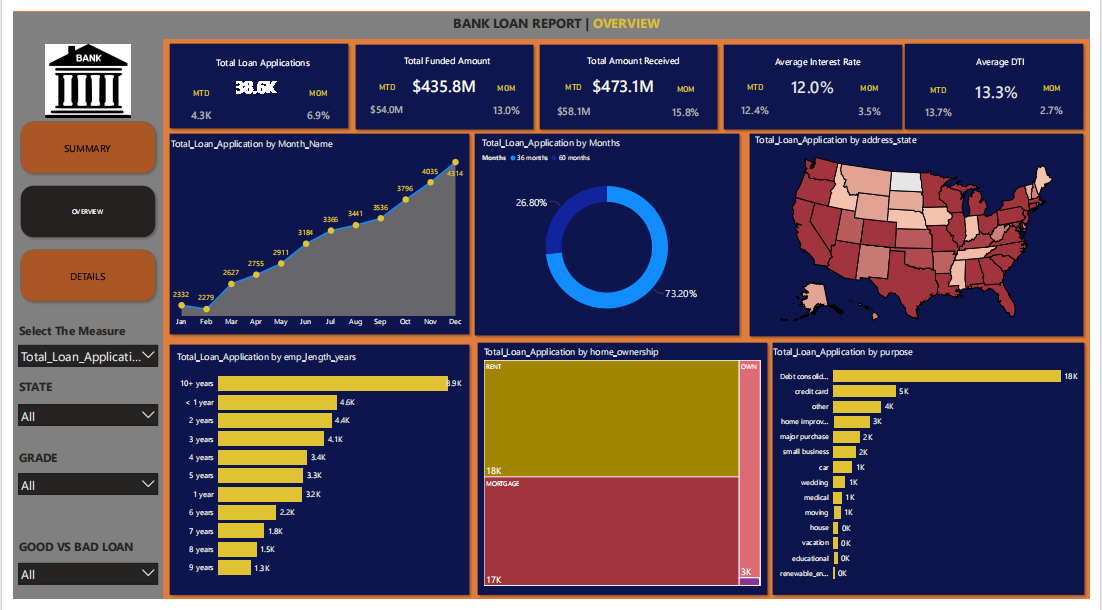

The page's visual inventory and layout, read from the dashboard file:
{"tool":"powerbi","page":{"name":"OVERVIEW","canvas":[2200,1200],"ordinal":1},"visuals":[{"type":"group","id":"g1","title":"Group 1","box":[940.9,667.6,609.1,532.9],"z":0},{"type":"group","id":"g2","title":"Group 1","box":[310.4,671.5,630.5,529],"z":1000},{"type":"shape","box":[0,28.6,304.8,1171.4],"z":2000},{"type":"group","id":"g3","title":"Group 1","box":[1497.2,242.1,698.8,431.4],"z":2000,"group":"g15"},{"type":"shape","box":[1497.2,242.1,698.8,431.4],"z":2500,"group":"g3"},{"type":"shape","box":[0,0,2200,55.2],"z":3000},{"type":"shape","box":[310.4,242.1,630.5,425.6],"z":3000,"group":"g11"},{"type":"group","id":"g4","title":"Group 1","box":[935,242.1,558.3,429.5],"z":3000,"group":"g13"},{"type":"shape","box":[935,242.1,558.3,429.5],"z":3000,"group":"g4"},{"type":"shape","box":[940.9,667.6,609.1,532.9],"z":3000,"group":"g1"},{"type":"textbox","box":[895.2,0,455.2,55.2],"z":4000},{"type":"shape","box":[1814.7,57.9,380,189.7],"z":4000,"group":"g9"},{"type":"shape","box":[310.8,58.4,381,188.6],"z":4000,"group":"g6"},{"type":"shape","box":[691,58.6,380.7,189],"z":4000,"group":"g7"},{"type":"shape","box":[1067.8,58.6,380,189],"z":4000,"group":"g10"},{"type":"shape","box":[1444.5,58.6,380,189],"z":4000,"group":"g8"},{"type":"shape","box":[1544.1,667.6,652.5,532.6],"z":4000,"group":"g5"},{"type":"shape","box":[310.4,671.5,631,528.7],"z":4000,"group":"g2"},{"type":"cardVisual","fields":{"Data":["KPI'S.Total Funded Loan Amount"]},"box":[773.3,108.7,215.6,79.9],"z":5000,"group":"g7"},{"type":"cardVisual","fields":{"Data":["KPI'S.Total Amount Receieved"]},"box":[1139.5,108.7,215.6,81.9],"z":5000,"group":"g10"},{"type":"cardVisual","fields":{"Data":["KPI'S.Average Intrest Rate"]},"box":[1525.6,110.7,215.6,79.9],"z":5000,"group":"g8"},{"type":"cardVisual","fields":{"Data":["KPI'S.Total_Loan_Application"]},"box":[387.5,112.8,215.6,79.9],"z":5000,"group":"g6"},{"type":"cardVisual","fields":{"Data":["KPI'S.Average DTI"]},"box":[1902.3,122.2,215.4,79],"z":5000,"group":"g9"},{"type":"slicer","fields":{"Values":["financial_loan.Good vs Bad Loan"]},"box":[0,1118.1,304.8,81.9],"z":5000},{"type":"textbox","box":[782.4,80.8,210.5,39.3],"z":6000,"group":"g7"},{"type":"textbox","box":[1161.4,81,214.3,39.7],"z":6000,"group":"g10"},{"type":"textbox","box":[1538.1,82.2,213.3,41.8],"z":6000,"group":"g8"},{"type":"textbox","box":[1912,83.3,213.7,41.8],"z":6000,"group":"g9"},{"type":"textbox","box":[403.5,86.5,212.9,34.7],"z":6000,"group":"g6"},{"type":"textbox","box":[5.7,1072.4,253.3,45.7],"z":6000},{"type":"cardVisual","title":"MTD","fields":{"Data":["KPI'S.MTD Loan Amount"]},"box":[697.5,144.7,133.8,87.8],"z":7000,"group":"g7"},{"type":"cardVisual","title":"MTD","fields":{"Data":["KPI'S.MTD"]},"box":[1077.6,144.7,135.8,91.8],"z":7000,"group":"g10"},{"type":"cardVisual","title":"MTD","fields":{"Data":["KPI'S.MTD Average interest Rate"]},"box":[1457.7,144.7,117.8,87.8],"z":7000,"group":"g8"},{"type":"cardVisual","title":"MTD","fields":{"Data":["KPI'S.MTD DTI"]},"box":[1831.3,149.9,119,89],"z":7000,"group":"g9"},{"type":"cardVisual","title":"MTD","fields":{"Data":["KPI'S.Month_to_date_Loanapplication"]},"box":[323.6,156.7,119.8,85.8],"z":7000,"group":"g6"},{"type":"textbox","box":[5.7,889.5,104.8,45.7],"z":7000},{"type":"cardVisual","title":"MOM","fields":{"Data":["KPI'S.MOM Loan Amount"]},"box":[949,145.3,119,89],"z":8000,"group":"g7"},{"type":"cardVisual","title":"MOM","fields":{"Data":["KPI'S.MOM DTI"]},"box":[2063.3,145.9,119,89],"z":8000,"group":"g9"},{"type":"cardVisual","title":"MOM","fields":{"Data":["KPI'S.MOM Average Interst Rate"]},"box":[1691.3,146.7,117.8,89.8],"z":8000,"group":"g8"},{"type":"cardVisual","title":"MOM","fields":{"Data":["KPI'S.MOM Amount Received"]},"box":[1313.2,148.6,125,89],"z":8000,"group":"g10"},{"type":"cardVisual","title":"MOM","fields":{"Data":["KPI'S.MOM_Loan_Application"]},"box":[565.2,156.7,117.8,85.8],"z":8000,"group":"g6"},{"type":"textbox","box":[5.7,744.8,116.2,49.5],"z":8000},{"type":"slicer","fields":{"Values":["financial_loan.grade"]},"box":[0,935.2,304.8,80],"z":9000},{"type":"slicer","fields":{"Values":["financial_loan.address_state"]},"box":[0,794.3,304.8,81.9],"z":10000},{"type":"clusteredBarChart","fields":{"Y":["KPI'S.Total_Loan_Application"],"Category":["financial_loan.emp_length_years"]},"box":[329.9,693,591.5,480.2],"z":11000},{"type":"treemap","fields":{"Values":["KPI'S.Total_Loan_Application"],"Group":["financial_loan.home_ownership"]},"box":[956.5,683.2,575.9,495.8],"z":12000},{"type":"slicer","fields":{"Values":["Select the Measure.Select the Measure"]},"box":[0,672.4,304.8,74.3],"z":13000},{"type":"textbox","box":[5.7,630.5,253.3,49.5],"z":14000},{"type":"group","id":"g5","title":"Group 1","box":[1544.1,667.6,652,532.9],"z":15000},{"type":"shapeMap","fields":{"Value":["KPI'S.Total_Loan_Application"],"Category":["financial_loan.address_state"]},"box":[1512.9,249.5,669.6,405.7],"z":16000,"group":"g15"},{"type":"clusteredBarChart","fields":{"Y":["KPI'S.Total_Loan_Application"],"Category":["financial_loan.purpose"]},"box":[1550,683.2,632.5,495.8],"z":16000},{"type":"group","id":"g6","title":"Group 1","box":[310.8,58.4,381,188.6],"z":17000},{"type":"donutChart","fields":{"Y":["KPI'S.Total_Loan_Application"],"Category":["financial_loan.term_in_months"]},"box":[954.3,253.9,517.3,401.9],"z":17000,"group":"g13"},{"type":"group","id":"g7","title":"Group 1","box":[691,58.6,380.7,187.4],"z":18000},{"type":"group","id":"g8","title":"Group 1","box":[1444.5,58.6,380.7,187.4],"z":19000},{"type":"group","id":"g9","title":"Group 1","box":[1814.7,57.9,380,189.7],"z":20000},{"type":"group","id":"g10","title":"Group 1","box":[1067.8,58.6,380.7,187.4],"z":21000},{"type":"group","id":"g11","title":"Group 1","box":[310.4,242.1,630.5,425.6],"z":21000,"group":"g12"},{"type":"group","id":"g12","title":"Group 2","box":[310.4,242.1,630.5,425.6],"z":22000},{"type":"group","id":"g13","title":"Group 3","box":[935,242.1,558.3,429.5],"z":23000},{"type":"areaChart","fields":{"Y":["KPI'S.Total_Loan_Application"],"Category":["Date_Table.Month_Name"]},"box":[318.2,255.8,611,398.2],"z":23000,"group":"g12"},{"type":"group","id":"g14","title":"Group 4","box":[1497.2,242.1,698.8,431.4],"z":24000},{"type":"pageNavigator","box":[5.7,217.1,291.4,382.9],"z":25000},{"type":"image","box":[0,66.7,304.8,150.5],"z":25001},{"type":"group","id":"g15","title":"Group 5","box":[1497.2,242.1,698.8,431.4],"z":25010,"group":"g14"}]}

Visuals, with their boxes in screenshot pixels (x1, y1, x2, y2), scaled from the page's 2200x1200 canvas onto the 1102x610 screenshot:
"Group 1" group: bbox=(471, 339, 776, 609)
"Group 1" group: bbox=(155, 341, 471, 609)
shape: bbox=(0, 15, 153, 609)
"Group 1" group: bbox=(750, 123, 1100, 342)
shape: bbox=(750, 123, 1100, 342)
shape: bbox=(0, 0, 1101, 28)
shape: bbox=(155, 123, 471, 339)
"Group 1" group: bbox=(468, 123, 748, 341)
shape: bbox=(468, 123, 748, 341)
shape: bbox=(471, 339, 776, 609)
textbox: bbox=(448, 0, 676, 28)
shape: bbox=(909, 29, 1099, 126)
shape: bbox=(156, 30, 347, 126)
shape: bbox=(346, 30, 537, 126)
shape: bbox=(535, 30, 725, 126)
shape: bbox=(724, 30, 914, 126)
shape: bbox=(773, 339, 1100, 609)
shape: bbox=(155, 341, 472, 609)
cardVisual - KPI'S.Total Funded Loan Amount: bbox=(387, 55, 495, 96)
cardVisual - KPI'S.Total Amount Receieved: bbox=(571, 55, 679, 97)
cardVisual - KPI'S.Average Intrest Rate: bbox=(764, 56, 872, 97)
cardVisual - KPI'S.Total_Loan_Application: bbox=(194, 57, 302, 98)
cardVisual - KPI'S.Average DTI: bbox=(953, 62, 1061, 102)
slicer - financial_loan.Good vs Bad Loan: bbox=(0, 568, 153, 609)
textbox: bbox=(392, 41, 497, 61)
textbox: bbox=(582, 41, 689, 61)
textbox: bbox=(770, 42, 877, 63)
textbox: bbox=(958, 42, 1065, 64)
textbox: bbox=(202, 44, 309, 62)
textbox: bbox=(3, 545, 130, 568)
"MTD" cardVisual: bbox=(349, 74, 416, 118)
"MTD" cardVisual: bbox=(540, 74, 608, 120)
"MTD" cardVisual: bbox=(730, 74, 789, 118)
"MTD" cardVisual: bbox=(917, 76, 977, 121)
"MTD" cardVisual: bbox=(162, 80, 222, 123)
textbox: bbox=(3, 452, 55, 475)
"MOM" cardVisual: bbox=(475, 74, 535, 119)
"MOM" cardVisual: bbox=(1034, 74, 1093, 119)
"MOM" cardVisual: bbox=(847, 75, 906, 120)
"MOM" cardVisual: bbox=(658, 76, 720, 121)
"MOM" cardVisual: bbox=(283, 80, 342, 123)
textbox: bbox=(3, 379, 61, 404)
slicer - financial_loan.grade: bbox=(0, 475, 153, 516)
slicer - financial_loan.address_state: bbox=(0, 404, 153, 445)
clusteredBarChart - KPI'S.Total_Loan_Application x financial_loan.emp_length_years: bbox=(165, 352, 462, 596)
treemap - KPI'S.Total_Loan_Application x financial_loan.home_ownership: bbox=(479, 347, 768, 599)
slicer - Select the Measure.Select the Measure: bbox=(0, 342, 153, 380)
textbox: bbox=(3, 321, 130, 346)
"Group 1" group: bbox=(773, 339, 1100, 609)
shapeMap - KPI'S.Total_Loan_Application x financial_loan.address_state: bbox=(758, 127, 1093, 333)
clusteredBarChart - KPI'S.Total_Loan_Application x financial_loan.purpose: bbox=(776, 347, 1093, 599)
"Group 1" group: bbox=(156, 30, 347, 126)
donutChart - KPI'S.Total_Loan_Application x financial_loan.term_in_months: bbox=(478, 129, 737, 333)
"Group 1" group: bbox=(346, 30, 537, 125)
"Group 1" group: bbox=(724, 30, 914, 125)
"Group 1" group: bbox=(909, 29, 1099, 126)
"Group 1" group: bbox=(535, 30, 726, 125)
"Group 1" group: bbox=(155, 123, 471, 339)
"Group 2" group: bbox=(155, 123, 471, 339)
"Group 3" group: bbox=(468, 123, 748, 341)
areaChart - KPI'S.Total_Loan_Application x Date_Table.Month_Name: bbox=(159, 130, 465, 332)
"Group 4" group: bbox=(750, 123, 1100, 342)
pageNavigator: bbox=(3, 110, 149, 305)
image: bbox=(0, 34, 153, 110)
"Group 5" group: bbox=(750, 123, 1100, 342)
